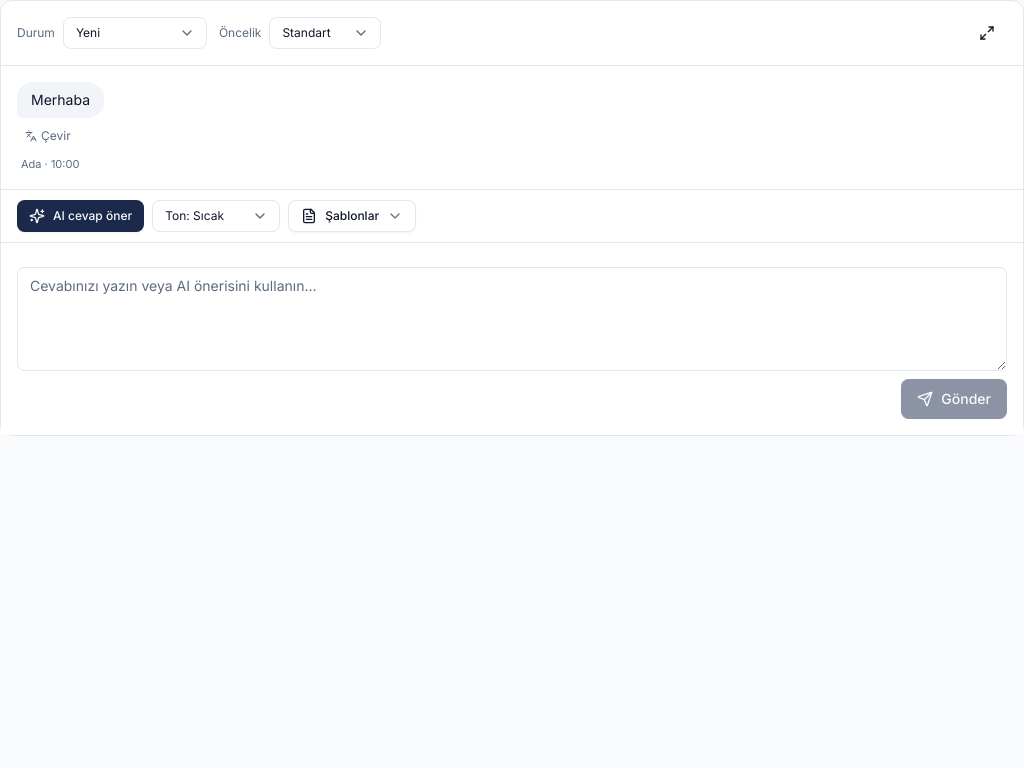
Test: şablon seçici — sayfalı liste + seçilince tam metin › 'Daha fazla göster' aynı aramanın sonraki sayfasını EKLER (kimlikle tekilleştirir); son sayfada düğme kalkar
The image size is (1024, 768).
Click the button "Şablonlar" at (352, 216), box [288,200,416,232]
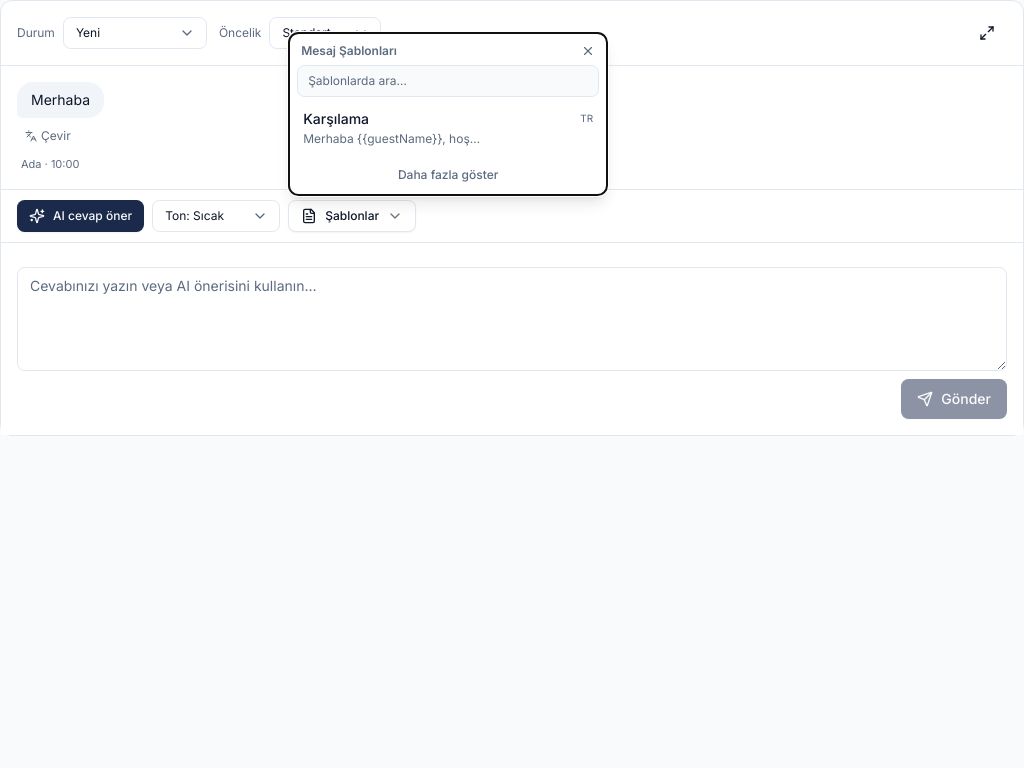
expect the dialog shows "Karşılama": met, box [293,100,603,154]
Click the button "Daha fazla göster" at (448, 174), box [293,158,603,190]
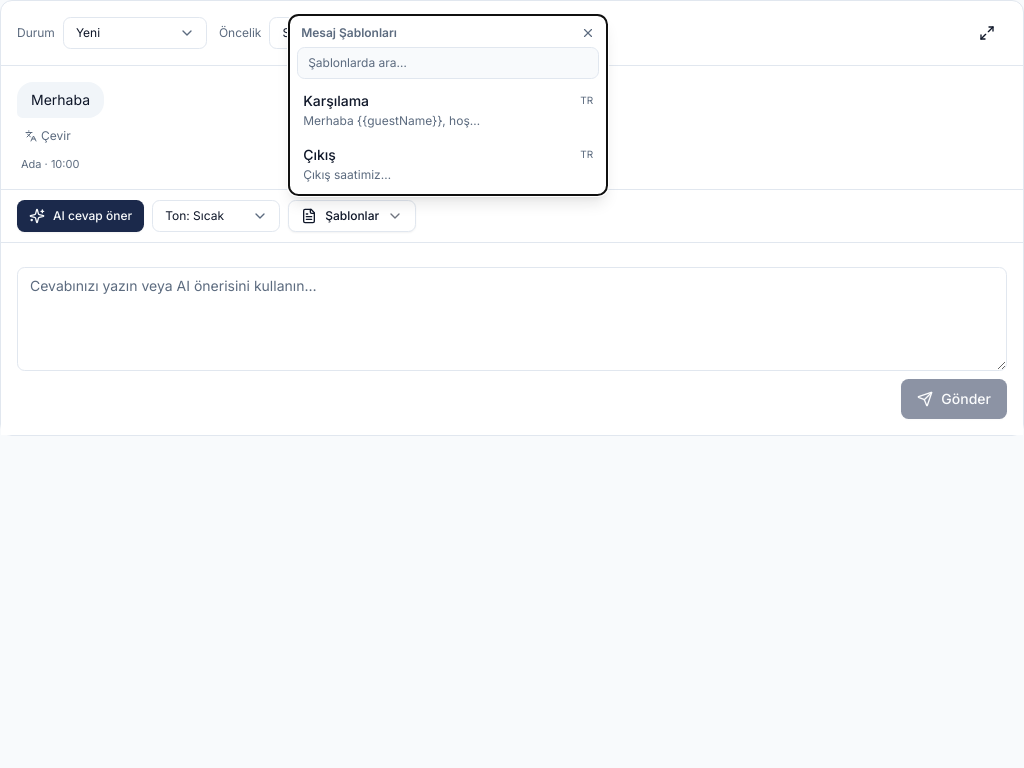
expect the dialog shows "Çıkış": met, box [293,136,603,190]
expect the number of buttons "Karşılama tr Merhaba {{guestName}}, hoş…" is 1: met, box [293,82,603,136]
expect the button "Daha fazla göster" is gone: met
